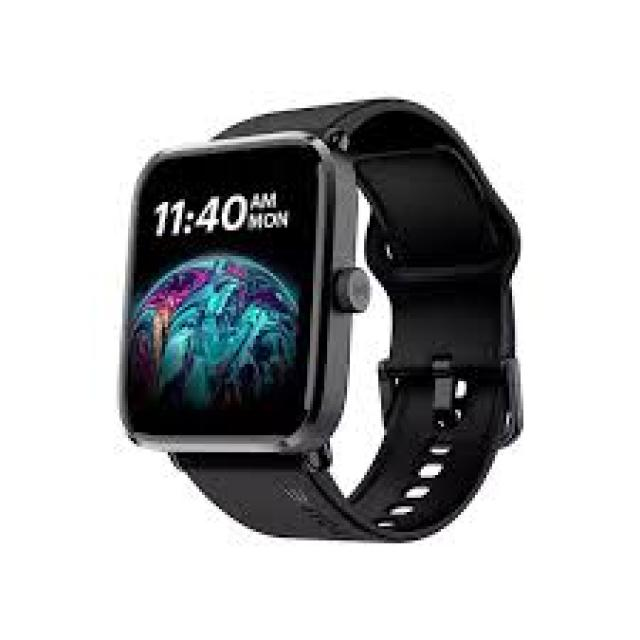objects: (122, 97, 521, 543), (416, 545, 422, 551)
